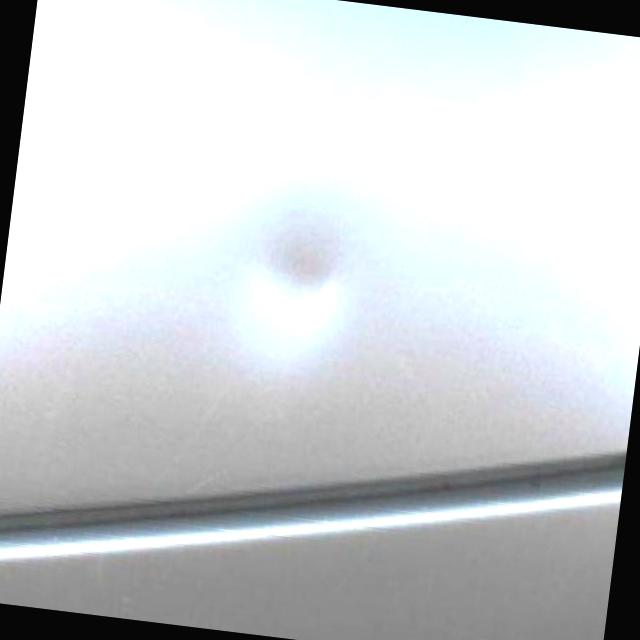dent: (230, 223, 356, 341)
